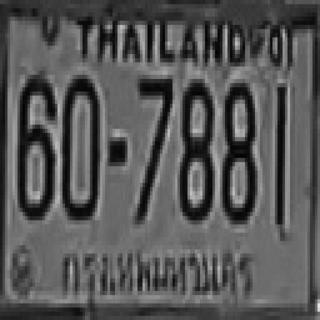N00: (60, 71, 98, 216)
N01: (275, 81, 285, 226)
N06: (15, 71, 55, 216)
N07: (134, 75, 171, 220), (136, 75, 171, 220)
N08: (220, 79, 255, 220), (178, 75, 212, 220)
P04: (55, 241, 257, 309)
